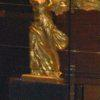Statue: (22, 1, 88, 99)
